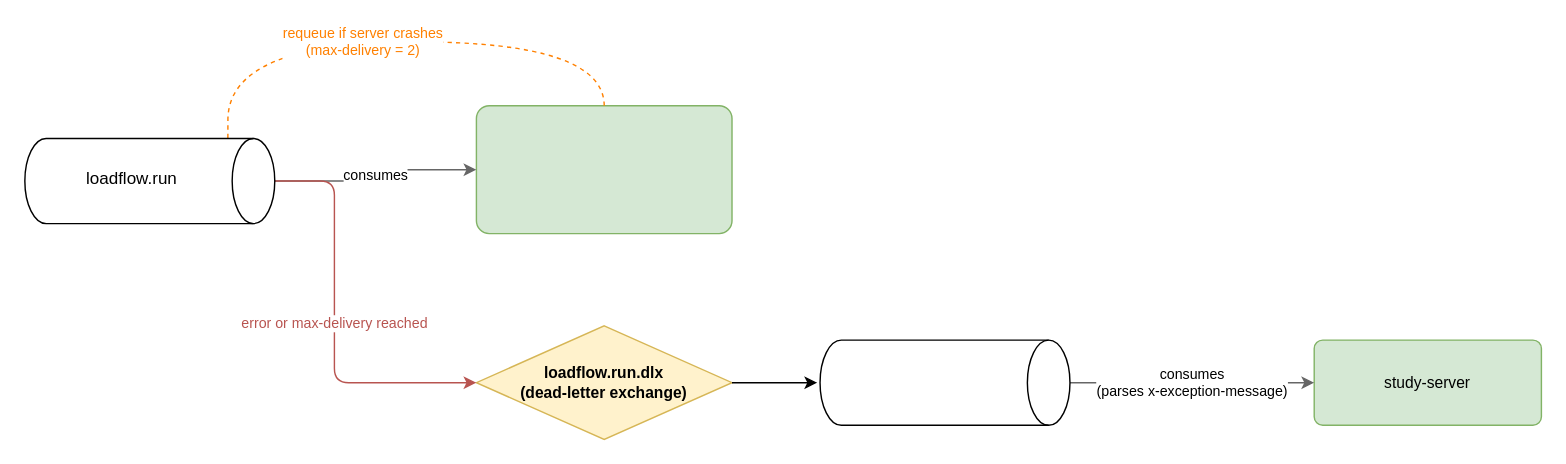
Image size: 1566x464. Some labels were removed from this diagram. Each missing label, with the centre of its shape:
loadflow-server no internal retry (max-attempts = 1): [603,169]
loadflow.run.dlx.dlq: [944,382]
